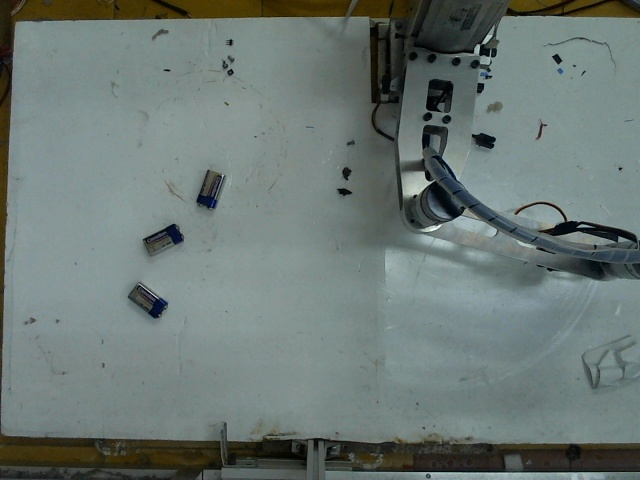battery: (128, 277, 174, 320), (138, 220, 184, 254), (193, 164, 225, 210)
